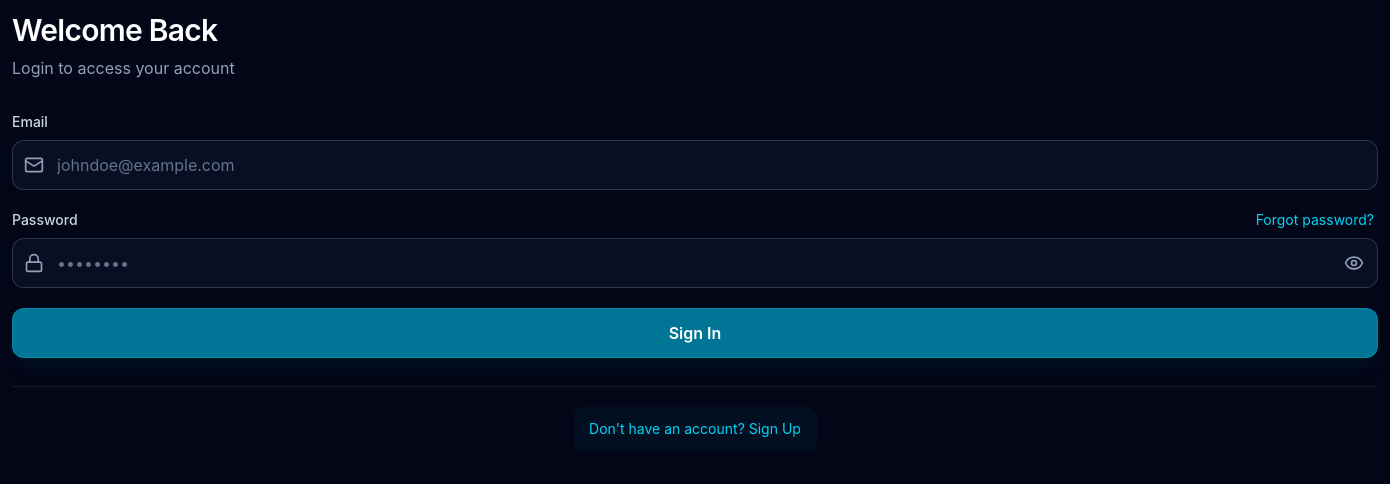
Test: LoginForm › shows validation error for short password
The image size is (1390, 484).
Type "test@example.com" into the field with placeholder "johndoe@example.com" at (695, 165), box [12, 140, 1378, 190]
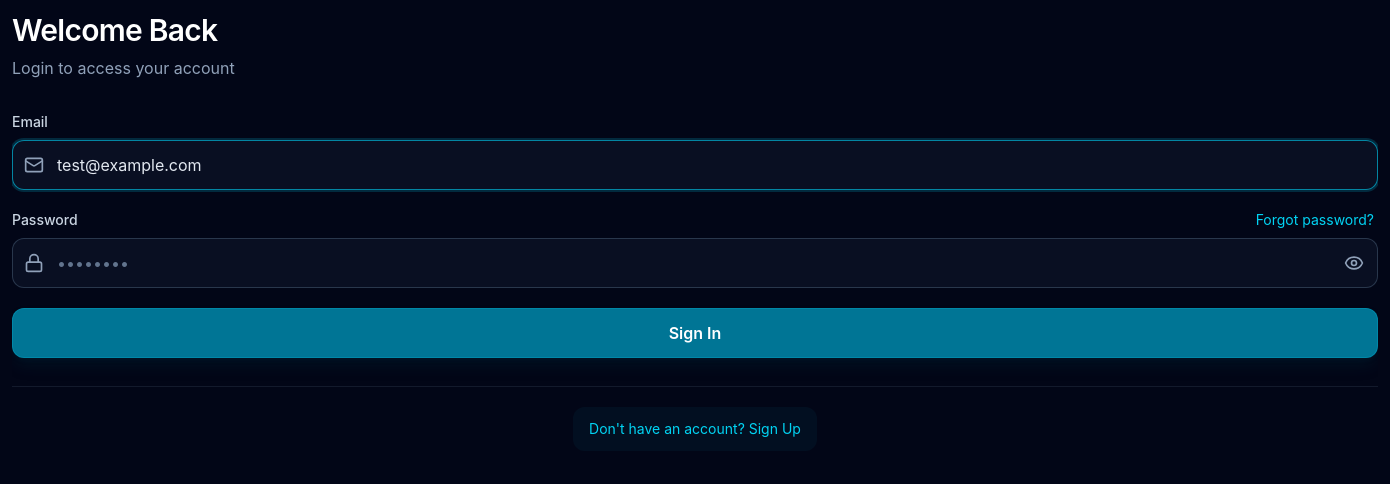
Type "123" into the password field with placeholder "••••••••" at (695, 263), box [12, 238, 1378, 288]
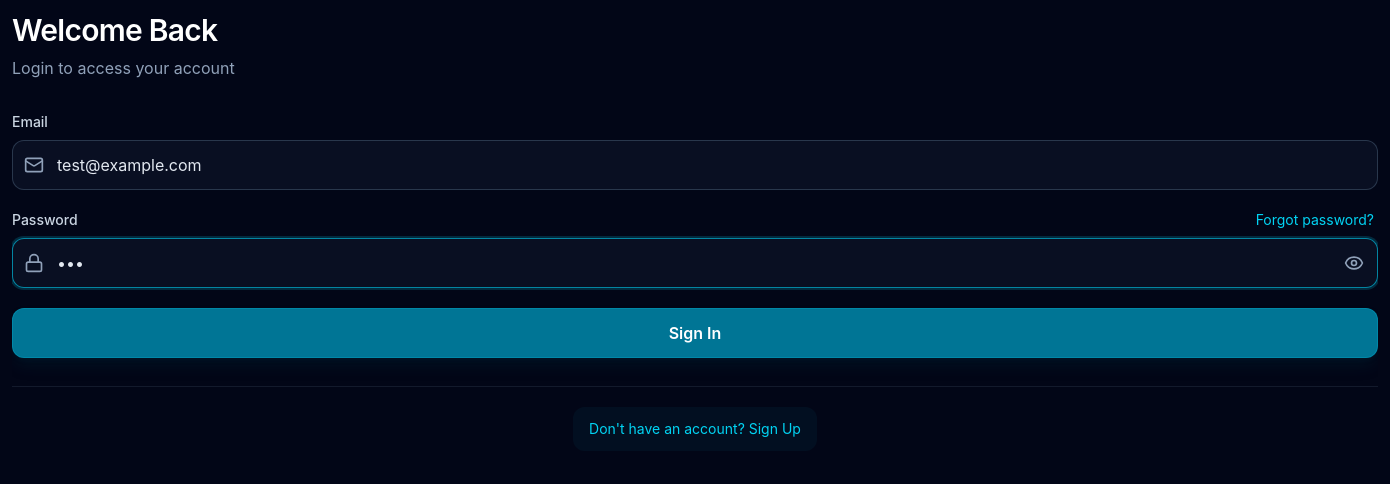
Click the button "Sign In" at (695, 333), box [12, 308, 1378, 358]
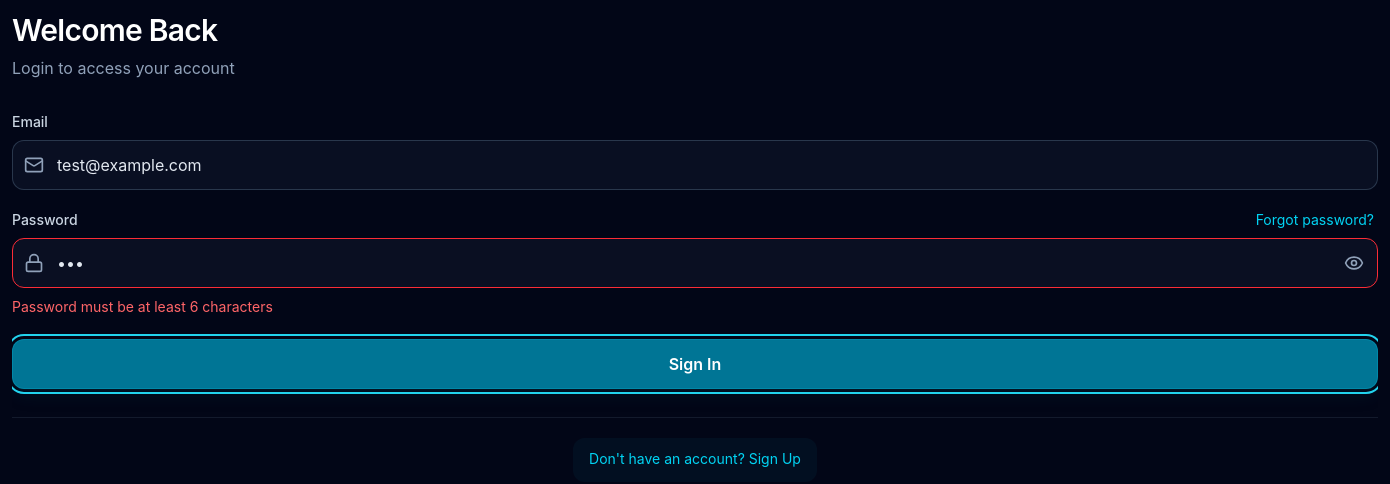
Expected: the text "Password must be at least 6 characters" is shown, [12, 298, 273, 315]
